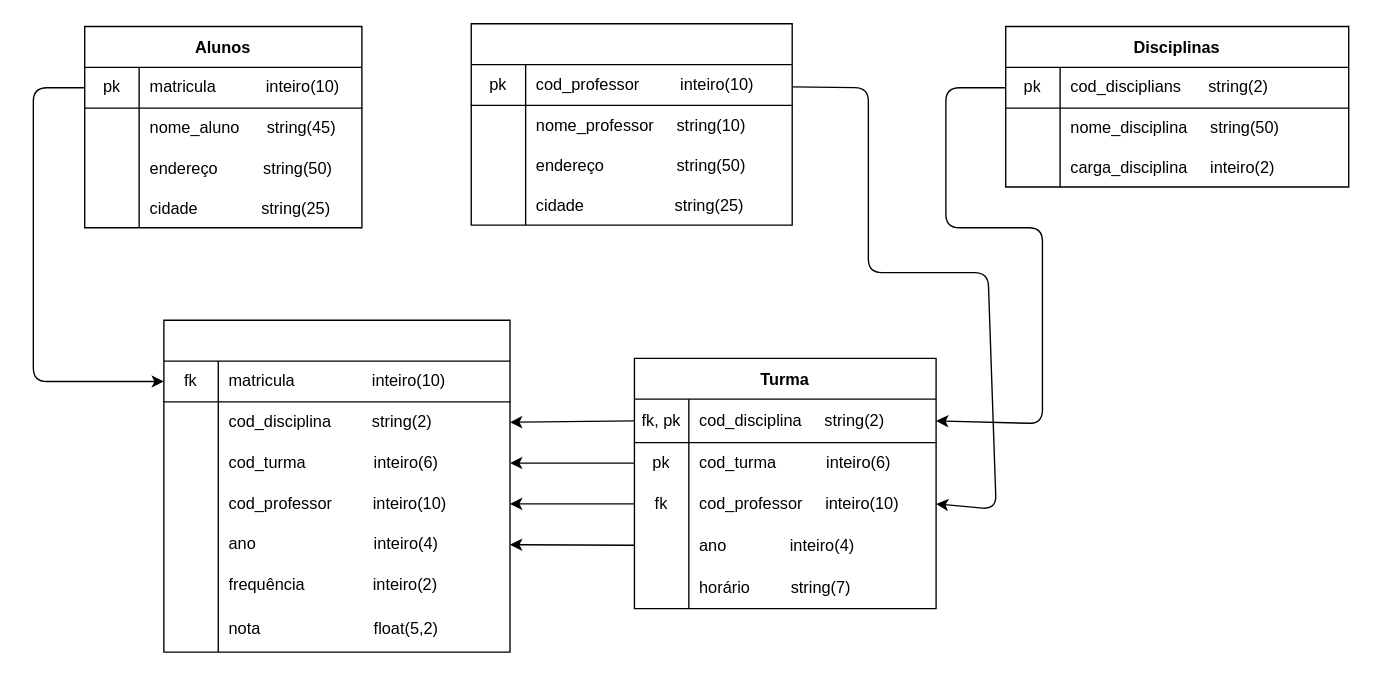
The diagram is 1374 pixels wide and 676 high, and some of its shapes have lost their labels. Here are the shapes that lost their labels. From the top down, the box of each, then its label:
(470, 22, 792, 225): Professores
(163, 319, 510, 652): Hístórico
